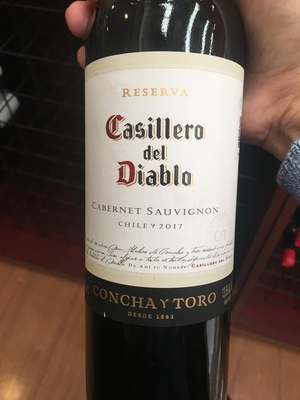casillero del diablo cabernet sauvignon: (82, 10, 249, 389)
